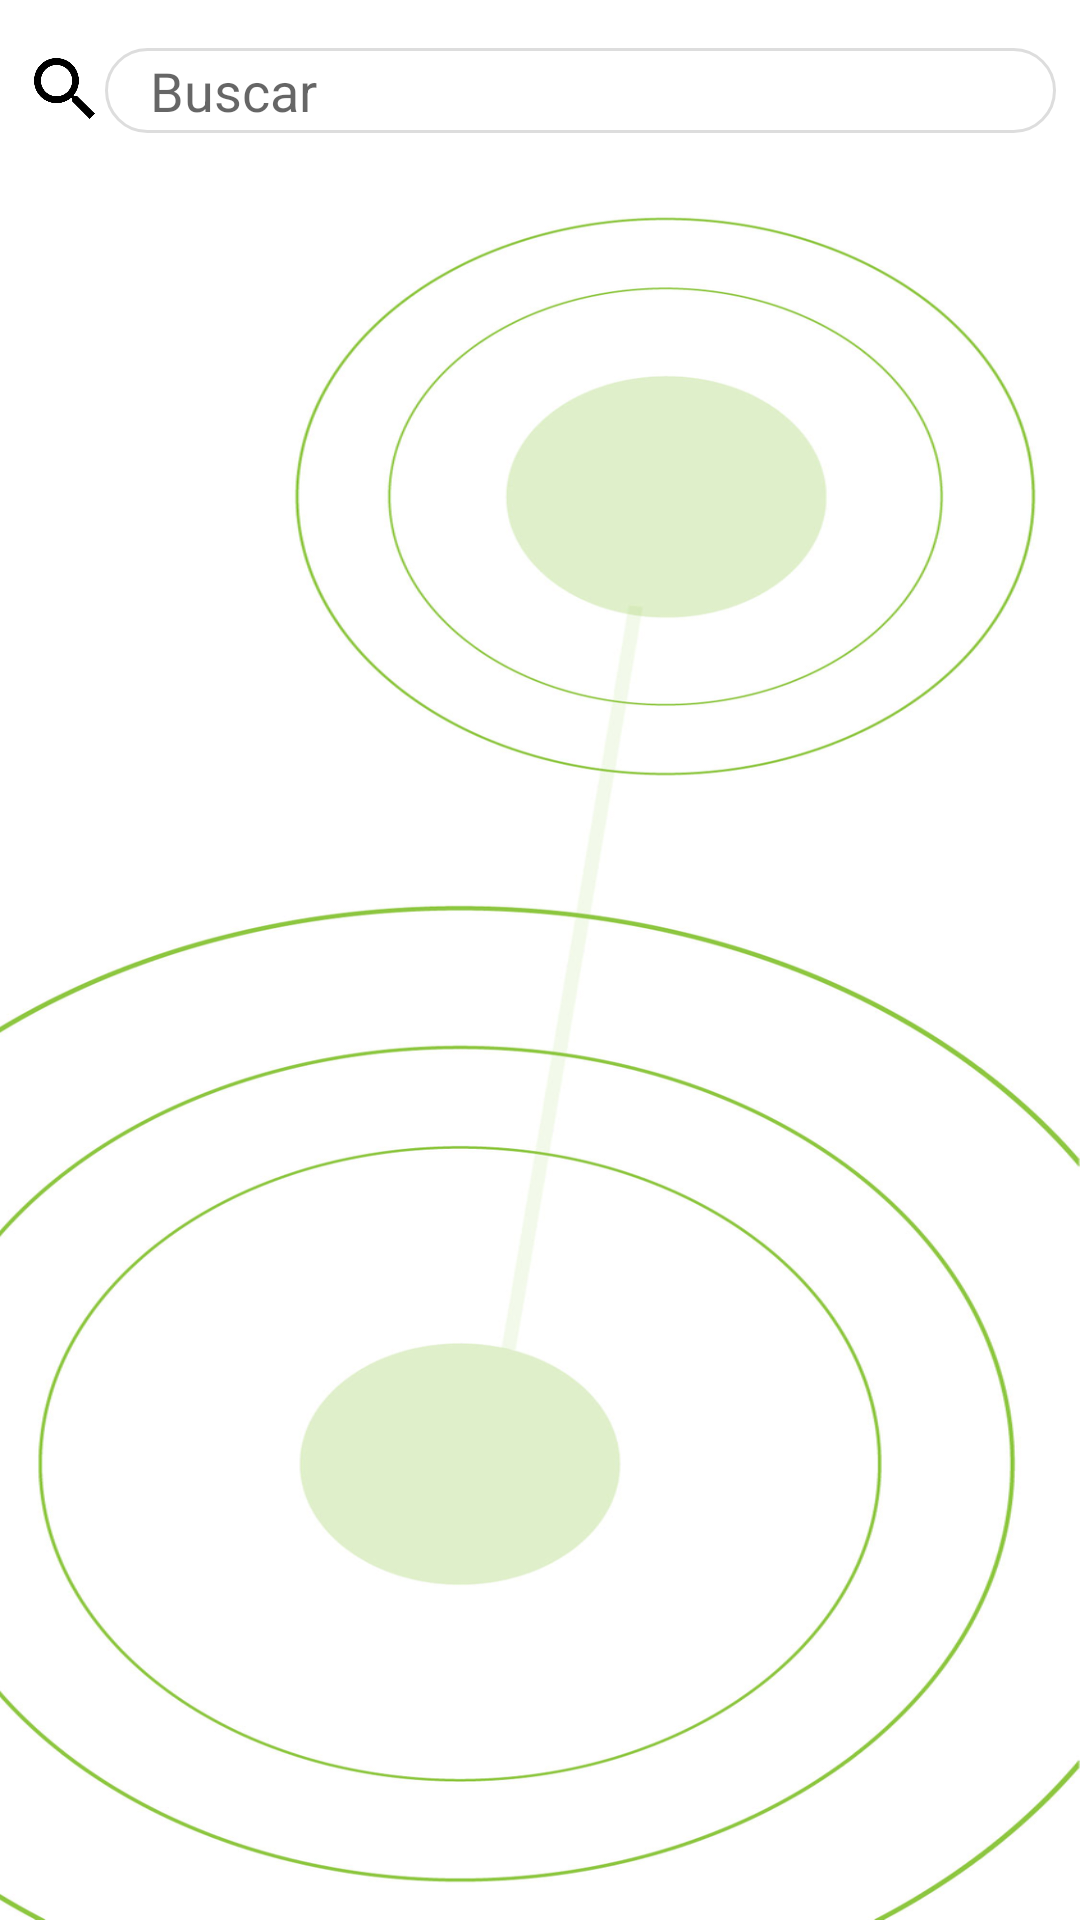

Icons on this 1080px x 1920px Android screen, each with its box as [left=x1, top=y1, right=x2, bottom=y2]:
search: [left=34, top=58, right=95, bottom=119]
